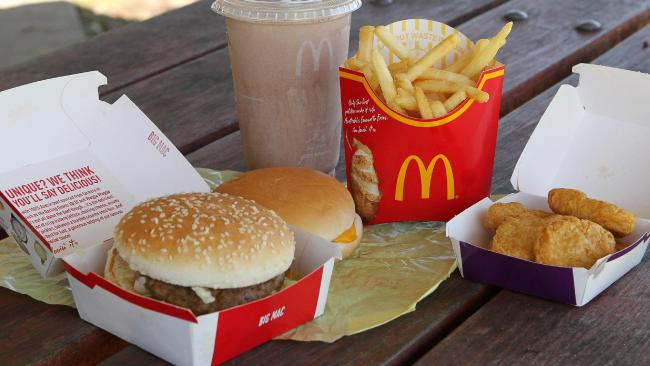mcdonalds: (393, 146, 465, 210)
